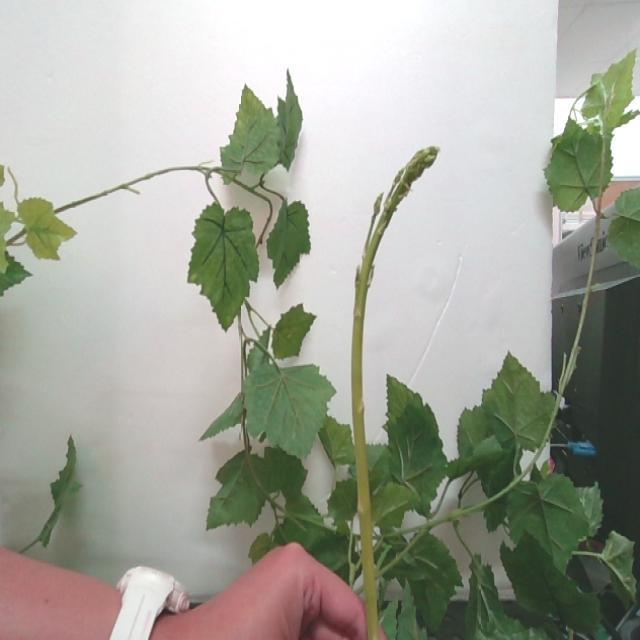aspargus: (349, 146, 439, 640)
